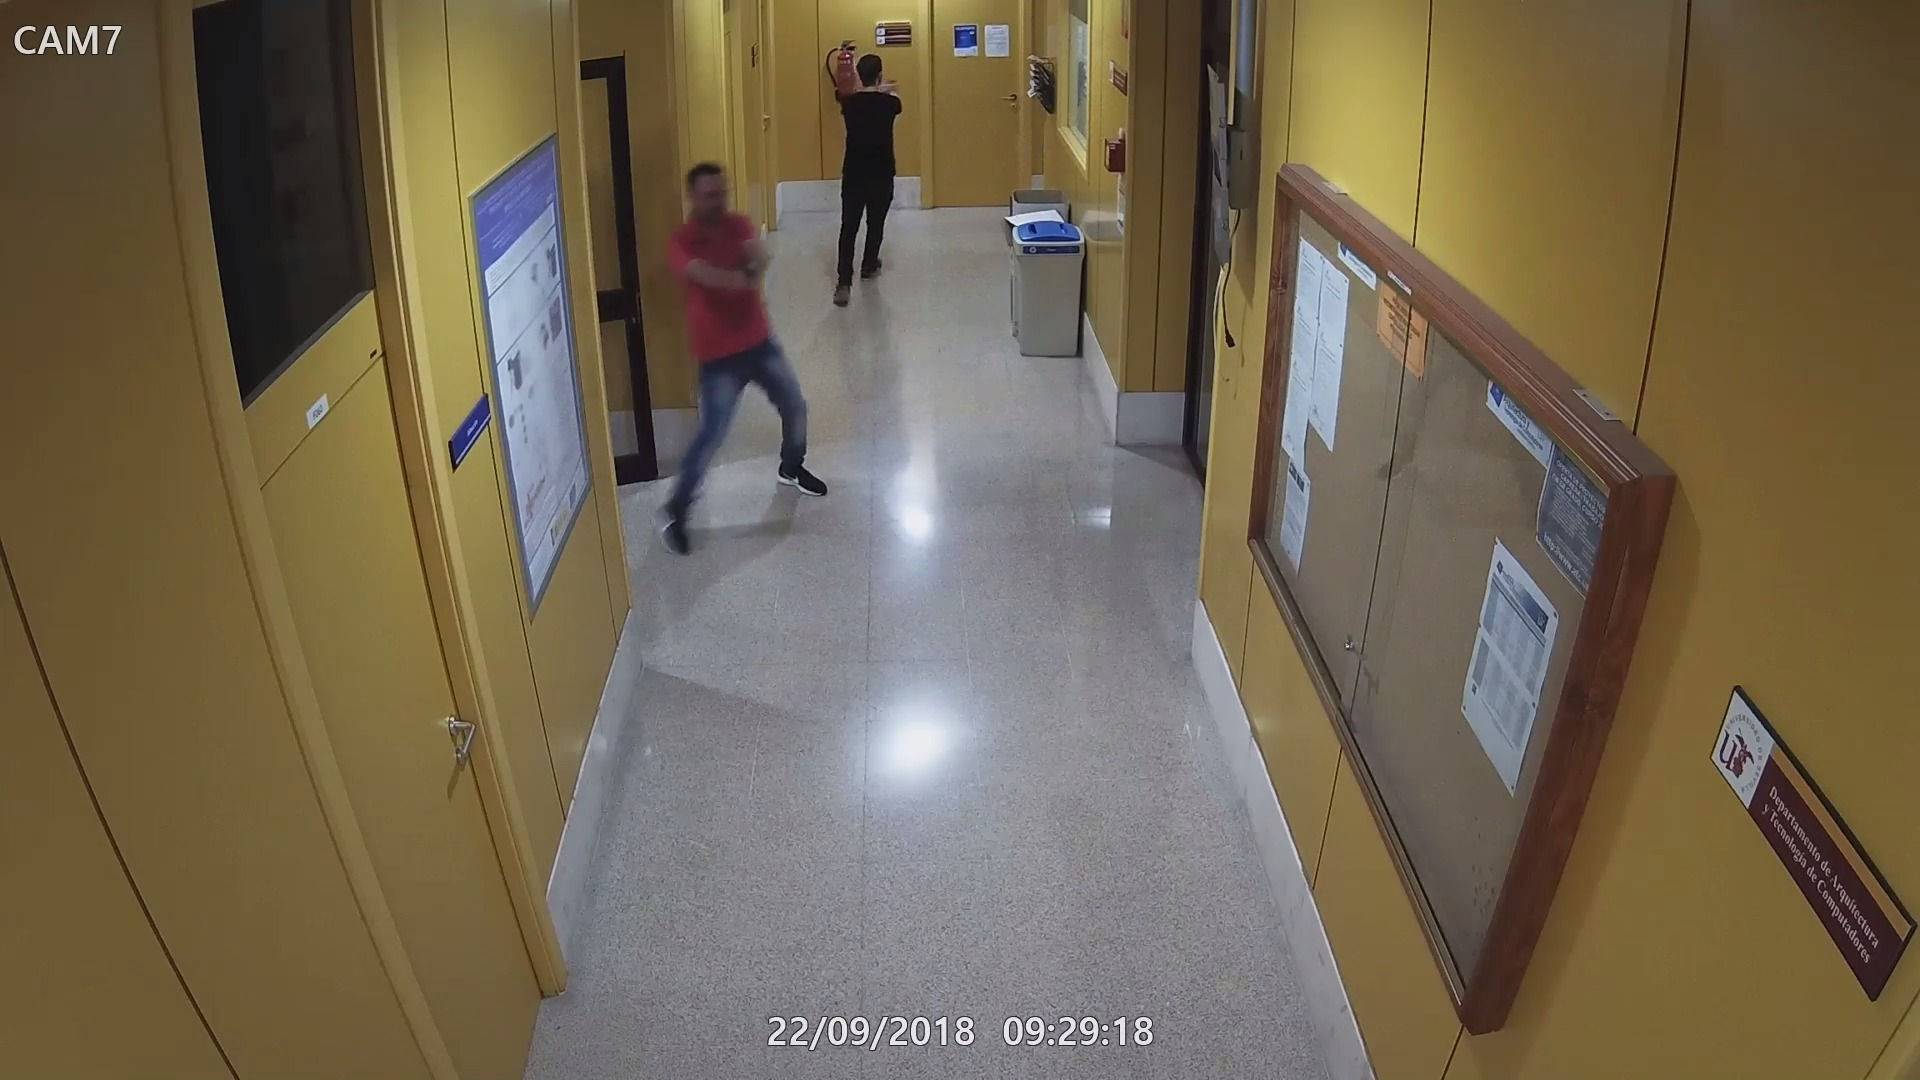Handgun: (735, 261, 762, 293), (878, 74, 905, 100)
